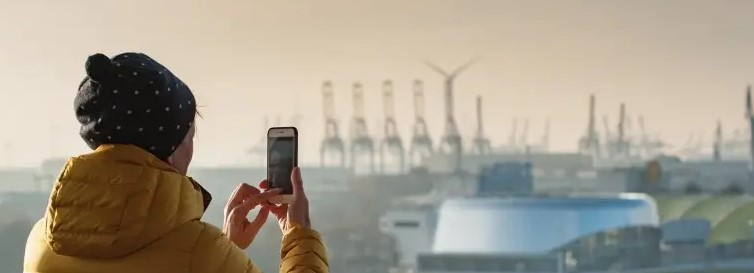phone: (267, 126, 299, 205)
